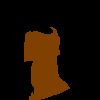vestito: (24, 26, 70, 100)
